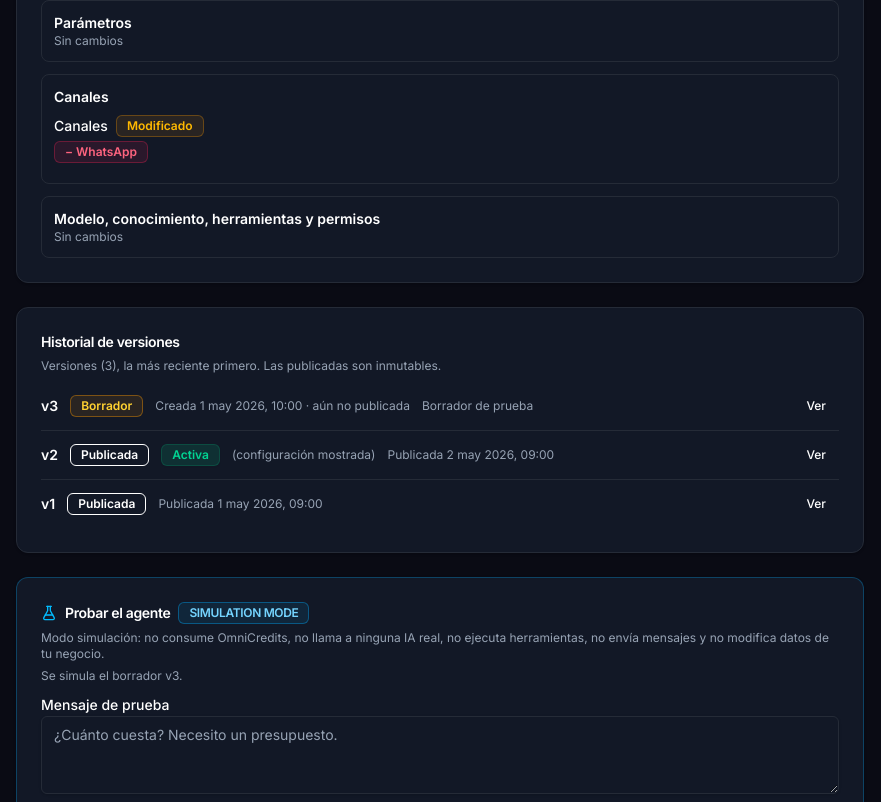
Historial de versiones › compara por defecto con la versión inmediatamente anterior y se puede cambiar
(page scrolled)
Click the button "Ver" in the row of "Borrador de prueba": (816, 406) x1=793 y1=390 x2=839 y2=422
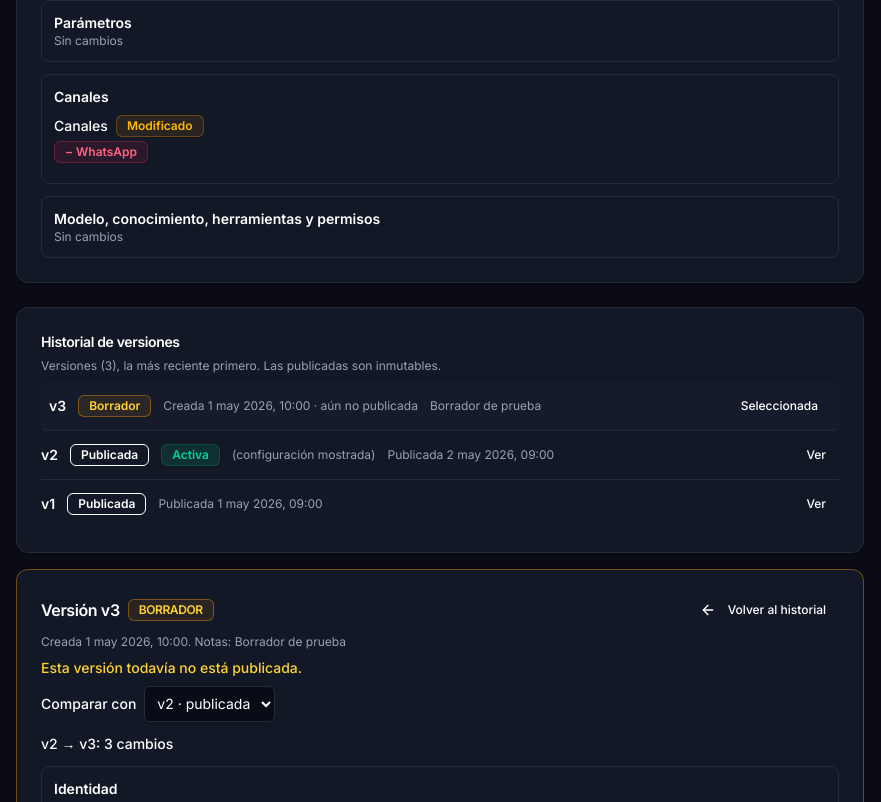
Result: the text with test id "diff-summary" shows "v2 → v3" at x1=41 y1=734 x2=173 y2=752
Select "v1 · publicada" in the dropdown with test id "compare-select": (210, 704) x1=144 y1=686 x2=275 y2=722
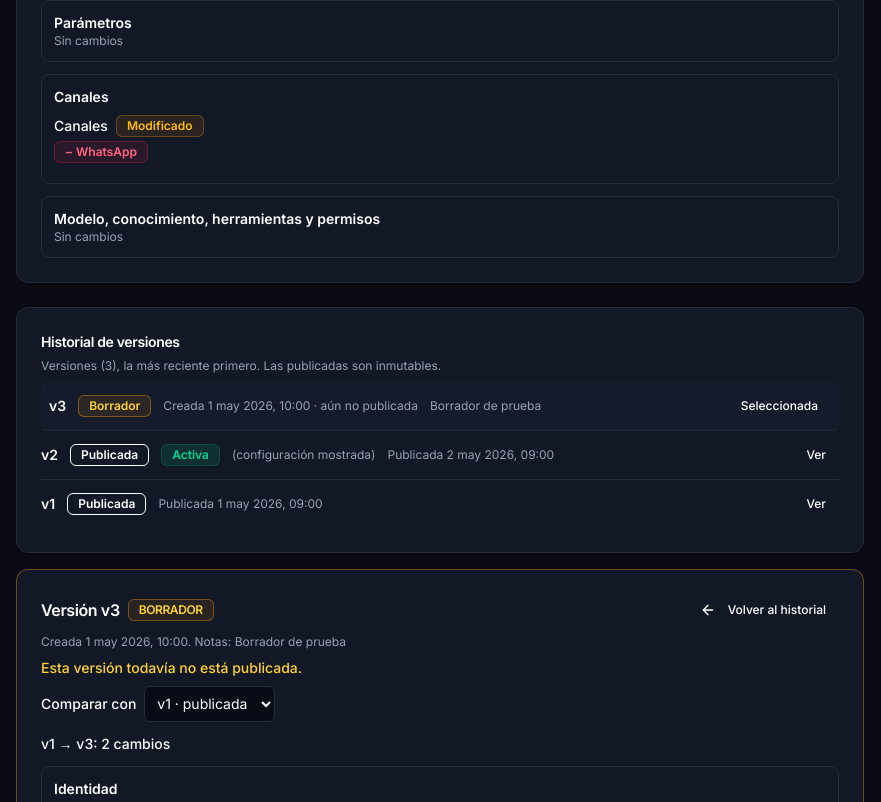
Result: the text with test id "diff-summary" shows "v1 → v3" at x1=41 y1=734 x2=170 y2=752
Select "— ninguna —" in the dropdown with test id "compare-select": (210, 704) x1=144 y1=686 x2=275 y2=722
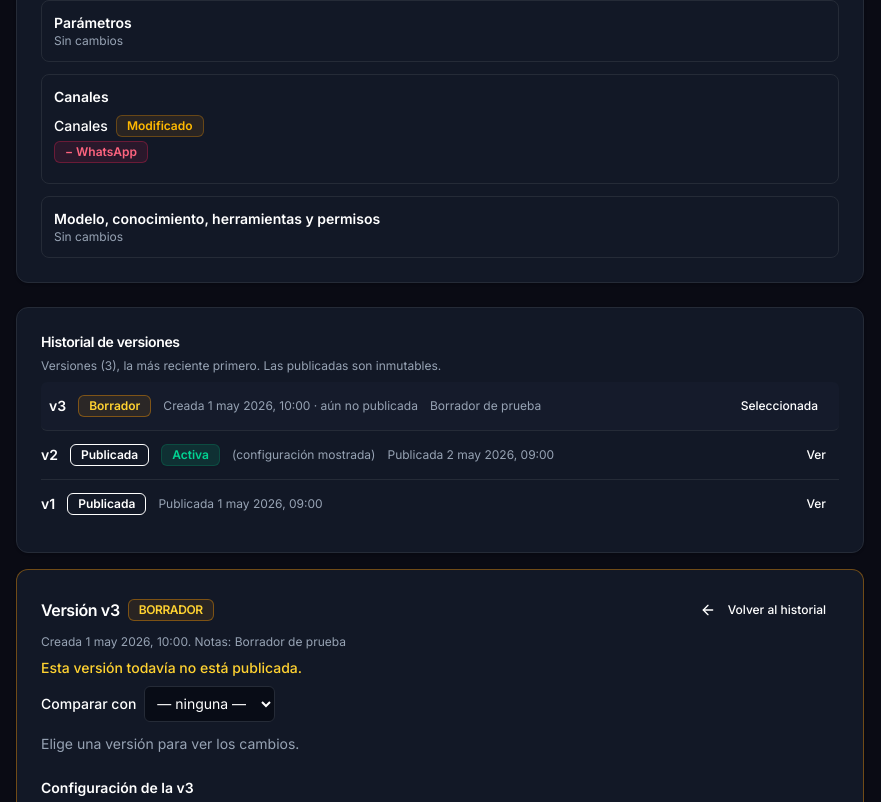
Result: the text "Elige una versión para ver los cambios." is shown at x1=41 y1=734 x2=299 y2=752
